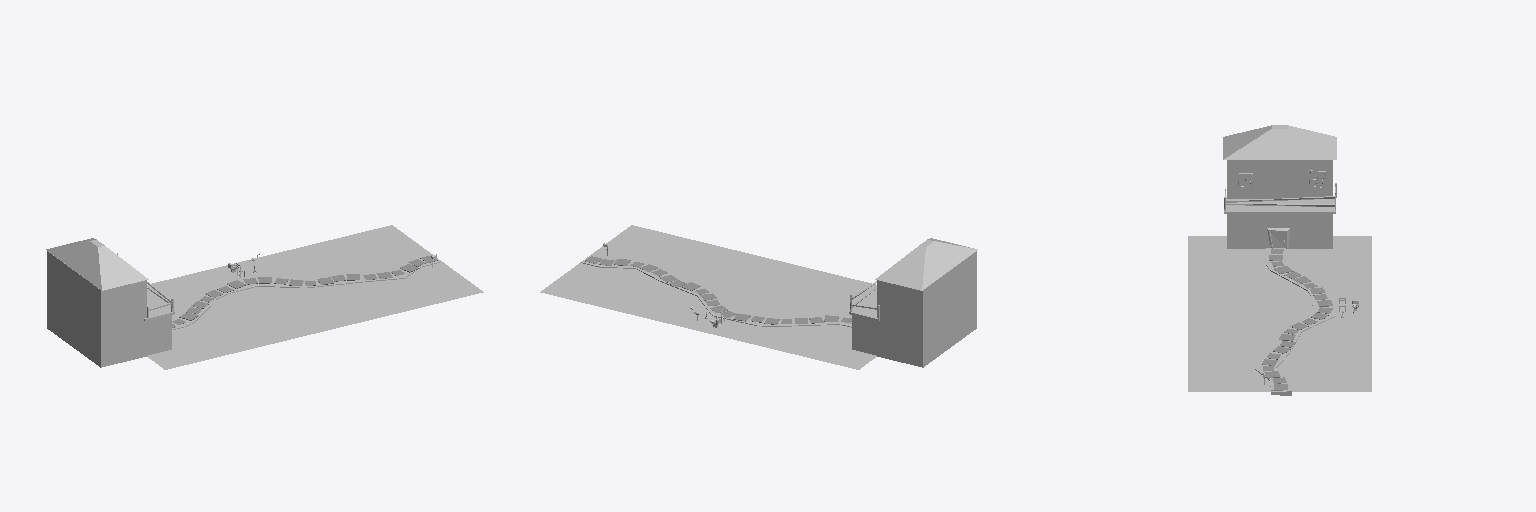
File: path.obj
3 renders of one model, left to right at view 1: azimuth 30°, elevation 25°; view 2: azimuth 150°, elevation 25°; view 3: azimuth 270°, elevation 25°, orthographic.
Parts seen in each view (by area): view 1: Plane_Plane.001, house_Cube.004, path_Cube.003, pathBase_Plane.002; view 2: Plane_Plane.001, house_Cube.004, path_Cube.003, pathBase_Plane.002; view 3: Plane_Plane.001, house_Cube.004, path_Cube.003, pathBase_Plane.002.
Part boxes in pixels (left/top/right/bottom): Plane_Plane.001: left=147, top=225, right=483, bottom=369; house_Cube.004: left=46, top=238, right=174, bottom=367; path_Cube.003: left=172, top=255, right=437, bottom=327; pathBase_Plane.002: left=172, top=254, right=439, bottom=329; Plane_Plane.001: left=540, top=225, right=876, bottom=369; house_Cube.004: left=849, top=238, right=977, bottom=367; path_Cube.003: left=585, top=256, right=851, bottom=324; pathBase_Plane.002: left=581, top=255, right=851, bottom=327; Plane_Plane.001: left=1188, top=236, right=1371, bottom=391; house_Cube.004: left=1223, top=125, right=1336, bottom=248; path_Cube.003: left=1262, top=249, right=1332, bottom=389; pathBase_Plane.002: left=1255, top=248, right=1334, bottom=395.
Bounding box in the file's own units: 15.77 × 4.25 × 6.9.